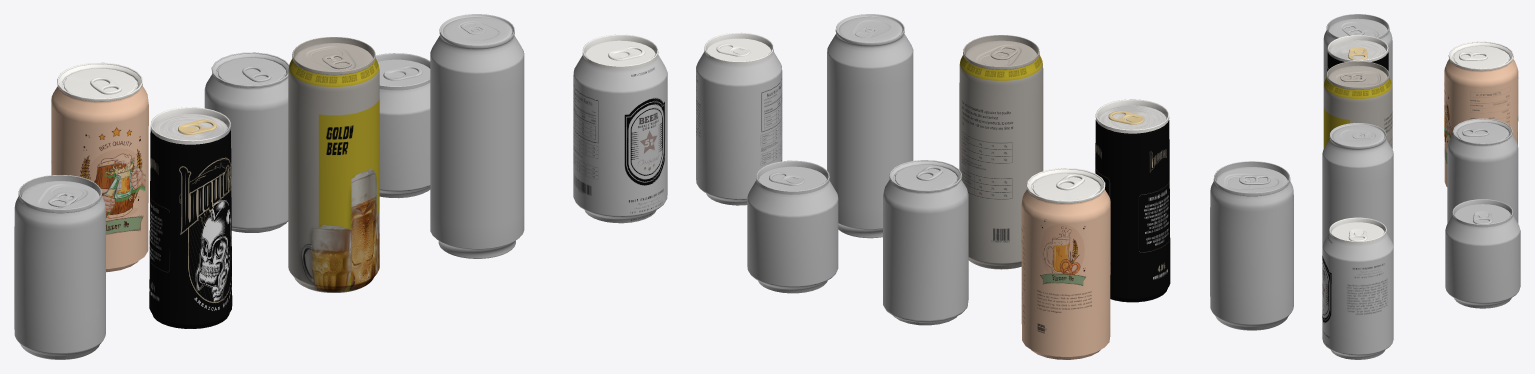
The picture shows the model from 3 angles, left to right: view 1: azimuth 30°, elevation 25°; view 2: azimuth 150°, elevation 25°; view 3: azimuth 270°, elevation 25°; orthographic projection. The views are drawn at different scales.
Parts seen in each view (by area): view 1: BW CDS Can 02.Shape, BW CDS Can 03.Shape, BW CDS Can 01.Shape, BW CDS Can 05.Shape, BW CDS Can 04.Shape, BW CDS Can 08.Shape, BW CDS Can 06.Shape, BW CDS Can 07.Shape; view 2: BW CDS Can 02.Shape, BW CDS Can 08.Shape, BW CDS Can 03.Shape, BW CDS Can 04.Shape, BW CDS Can 06.Shape, BW CDS Can 01.Shape, BW CDS Can 05.Shape, BW CDS Can 07.Shape; view 3: BW CDS Can 05.Shape, BW CDS Can 07.Shape, BW CDS Can 03.Shape, BW CDS Can 08.Shape, BW CDS Can 06.Shape, BW CDS Can 02.Shape, BW CDS Can 04.Shape, BW CDS Can 01.Shape.
Boxes of the visible parts, x1,y1,x2,y2 form: BW CDS Can 02.Shape: (288, 37, 379, 292); BW CDS Can 03.Shape: (430, 14, 524, 258); BW CDS Can 01.Shape: (149, 107, 232, 328); BW CDS Can 05.Shape: (573, 34, 667, 223); BW CDS Can 04.Shape: (14, 175, 105, 359); BW CDS Can 08.Shape: (51, 62, 148, 272); BW CDS Can 06.Shape: (204, 52, 288, 232); BW CDS Can 07.Shape: (375, 53, 430, 198); BW CDS Can 02.Shape: (959, 35, 1043, 269); BW CDS Can 08.Shape: (1021, 168, 1110, 359); BW CDS Can 03.Shape: (827, 14, 913, 238); BW CDS Can 04.Shape: (1210, 161, 1293, 330); BW CDS Can 06.Shape: (883, 160, 968, 325); BW CDS Can 01.Shape: (1095, 99, 1170, 302); BW CDS Can 05.Shape: (696, 32, 782, 205); BW CDS Can 07.Shape: (747, 160, 838, 293); BW CDS Can 05.Shape: (1322, 217, 1393, 359); BW CDS Can 07.Shape: (1445, 199, 1520, 308); BW CDS Can 03.Shape: (1322, 123, 1393, 246); BW CDS Can 08.Shape: (1444, 41, 1518, 186); BW CDS Can 06.Shape: (1447, 118, 1518, 223); BW CDS Can 02.Shape: (1323, 61, 1392, 148); BW CDS Can 04.Shape: (1323, 14, 1392, 85); BW CDS Can 01.Shape: (1327, 35, 1388, 71).
Bounding box in the file's own units: 0.6011 × 0.2006 × 0.2133.
